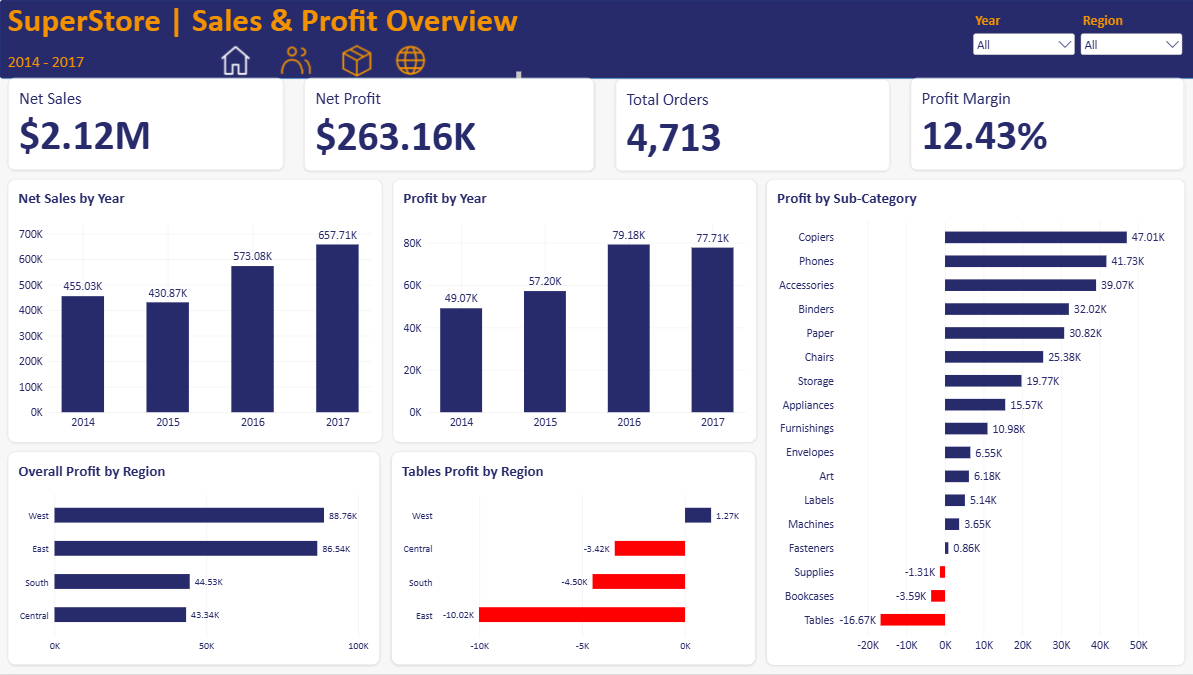

The page's visual inventory and layout, read from the dashboard file:
{"tool":"powerbi","page":{"name":"Overview","canvas":[1920,1080],"ordinal":2},"visuals":[{"type":"shape","box":[0,0,1920.1,128.5],"z":0},{"type":"textbox","title":"SuperStore | Sales & Profit Overview","box":[14.5,0,821.6,130.3],"z":1000},{"type":"slicer","title":"Year","fields":{"Values":["Orders.Order Date.Variation.Date Hierarchy.Year"]},"box":[1554.5,19.9,171.9,90.5],"z":2000},{"type":"slicer","title":"Year","fields":{"Values":["Orders.Region"]},"box":[1726.4,19.9,171.9,90.5],"z":3000},{"type":"cardVisual","fields":{"Data":["Orders.Net Sales"]},"box":[14.4,126.9,442,148.2],"z":4000},{"type":"cardVisual","fields":{"Data":["Orders.Profit Excluding Returns"]},"box":[488.8,127,465,150],"z":5000},{"type":"cardVisual","fields":{"Data":["Orders.Orders Excluding Returns"]},"box":[986.2,128.8,440,148.2],"z":6000},{"type":"cardVisual","fields":{"Data":["Orders.Profit Margin"]},"box":[1458.6,126.7,439.7,148.4],"z":7000},{"type":"clusteredColumnChart","title":"Net Sales by Year","fields":{"Category":["Orders.Order Date.Variation.Date Hierarchy.Year"],"Y":["Orders.Net Sales"]},"box":[14.4,288.2,599,422],"z":8000},{"type":"clusteredColumnChart","title":"Profit by Year","fields":{"Category":["Orders.Order Date.Variation.Date Hierarchy.Year"],"Y":["Orders.Profit Excluding Returns"]},"box":[630.1,288.2,582.5,422],"z":9000},{"type":"clusteredBarChart","title":"Profit by Sub-Category","fields":{"Category":["Orders.Sub-Category"],"Y":["Orders.Profit Excluding Returns"]},"box":[1228.8,287.7,669.6,778.2],"z":10000},{"type":"clusteredBarChart","title":"Overall Profit by Region","fields":{"Category":["Orders.Region"],"Y":["Orders.Profit Excluding Returns"]},"box":[14.4,724.5,594.9,341.7],"z":11000},{"type":"clusteredBarChart","title":"Tables Profit by Region","fields":{"Category":["Orders.Region"],"Y":["Orders.Profit Excluding Returns"]},"box":[628,724.5,582.5,341.7],"z":12000},{"type":"actionButton","box":[426.4,63.8,97,61.3],"z":13000},{"type":"actionButton","box":[329.4,63.8,97,61.3],"z":14000},{"type":"actionButton","box":[523.4,63.8,97,61.3],"z":15000},{"type":"actionButton","box":[610.2,63.8,97,61.3],"z":16000}]}

Visuals, with their boxes in screenshot pixels (x1, y1, x2, y2), scaled from the page's 1920x1080 canvas onto the 1193x675 screenshot:
shape: rect(0, 0, 1192, 80)
"SuperStore | Sales & Profit Overview" textbox: rect(9, 0, 520, 81)
"Year" slicer: rect(966, 12, 1073, 69)
"Year" slicer: rect(1073, 12, 1180, 69)
cardVisual - Orders.Net Sales: rect(9, 79, 284, 172)
cardVisual - Orders.Profit Excluding Returns: rect(304, 79, 593, 173)
cardVisual - Orders.Orders Excluding Returns: rect(613, 80, 886, 173)
cardVisual - Orders.Profit Margin: rect(906, 79, 1180, 172)
"Net Sales by Year" clusteredColumnChart: rect(9, 180, 381, 444)
"Profit by Year" clusteredColumnChart: rect(392, 180, 753, 444)
"Profit by Sub-Category" clusteredBarChart: rect(764, 180, 1180, 666)
"Overall Profit by Region" clusteredBarChart: rect(9, 453, 379, 666)
"Tables Profit by Region" clusteredBarChart: rect(390, 453, 752, 666)
actionButton: rect(265, 40, 325, 78)
actionButton: rect(205, 40, 265, 78)
actionButton: rect(325, 40, 385, 78)
actionButton: rect(379, 40, 439, 78)
